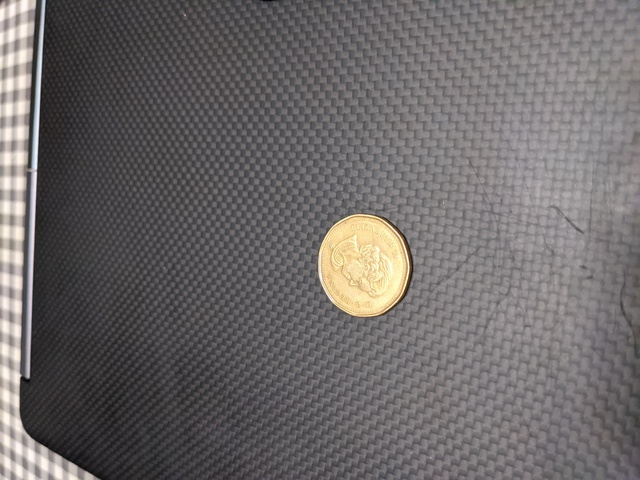loonie: (313, 213, 409, 313)
